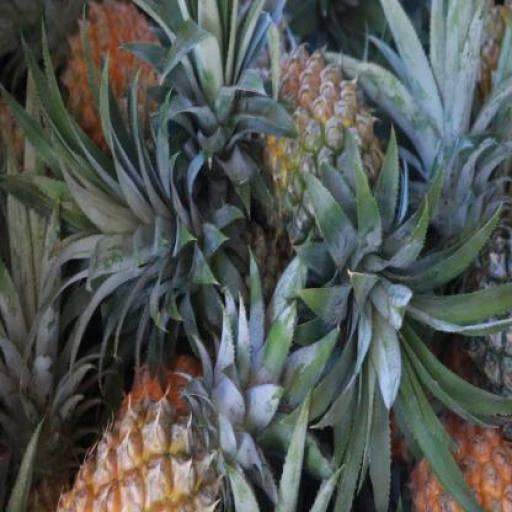------------------------------: (258, 46, 397, 256)
Pineapple - v8 v1: (59, 389, 240, 511)
